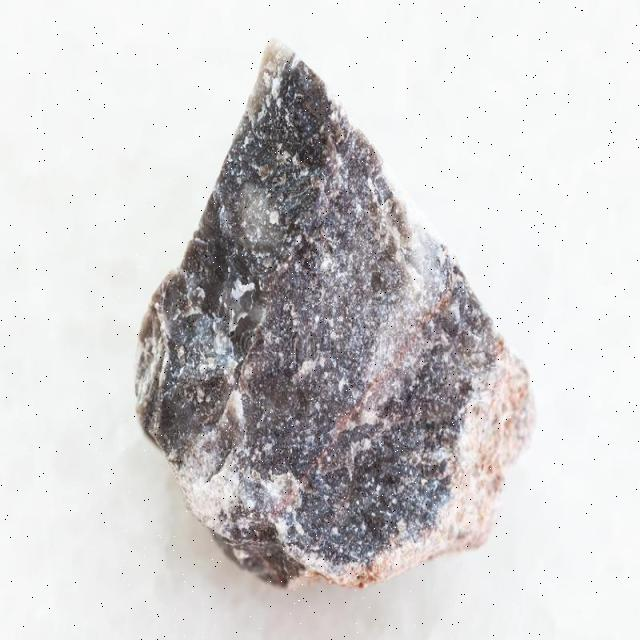Sedimentary: (138, 42, 545, 594)
